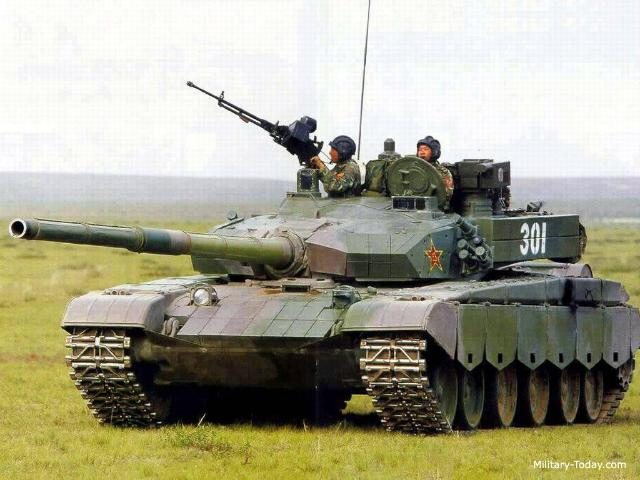other: (316, 134, 356, 192), (415, 136, 439, 169)
tank: (61, 156, 633, 412)
